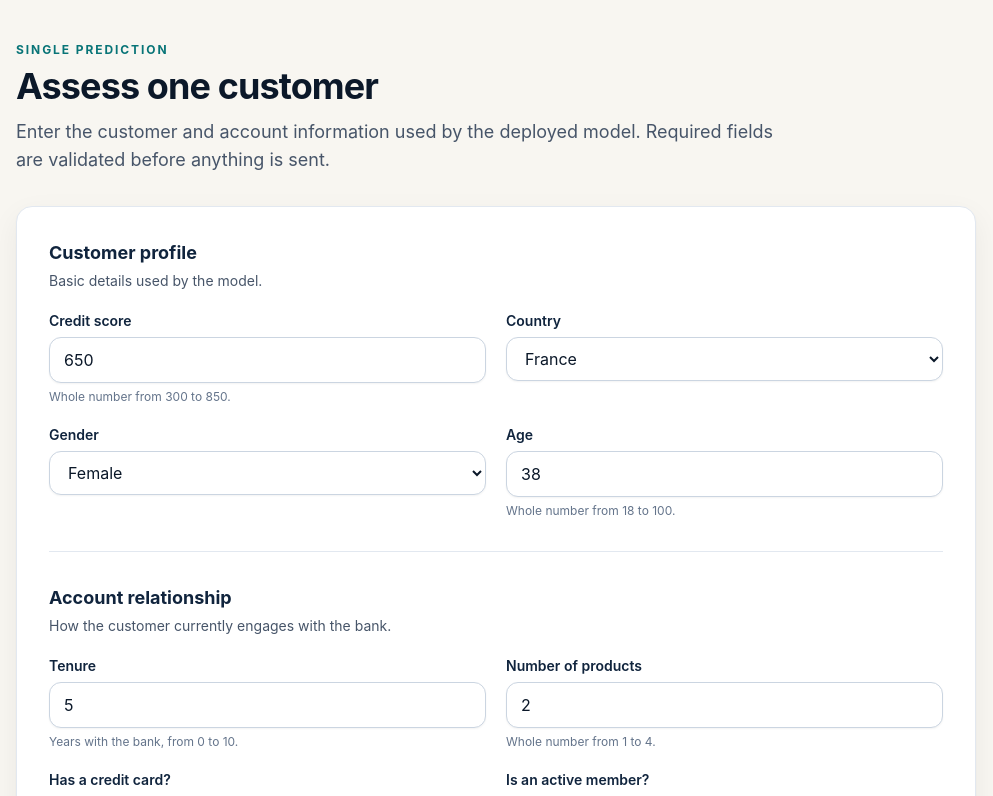
Test case: single prediction page › shows field validation before sending
The width and height of the screenshot is (993, 796).
Replace the text in the number field labelled "Credit score" with "200" at x=268, y=360, box [49,337,486,383]
(page scrolled)
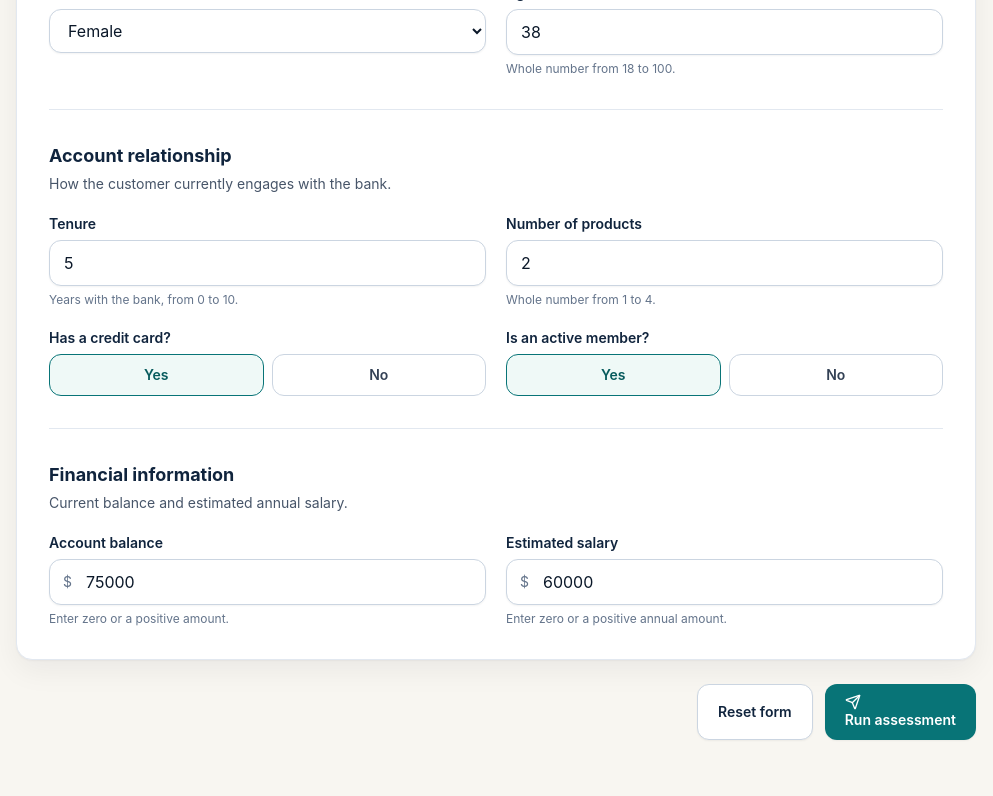
Click the button "Run assessment" at x=900, y=712, box [825,684,976,740]
(page scrolled)
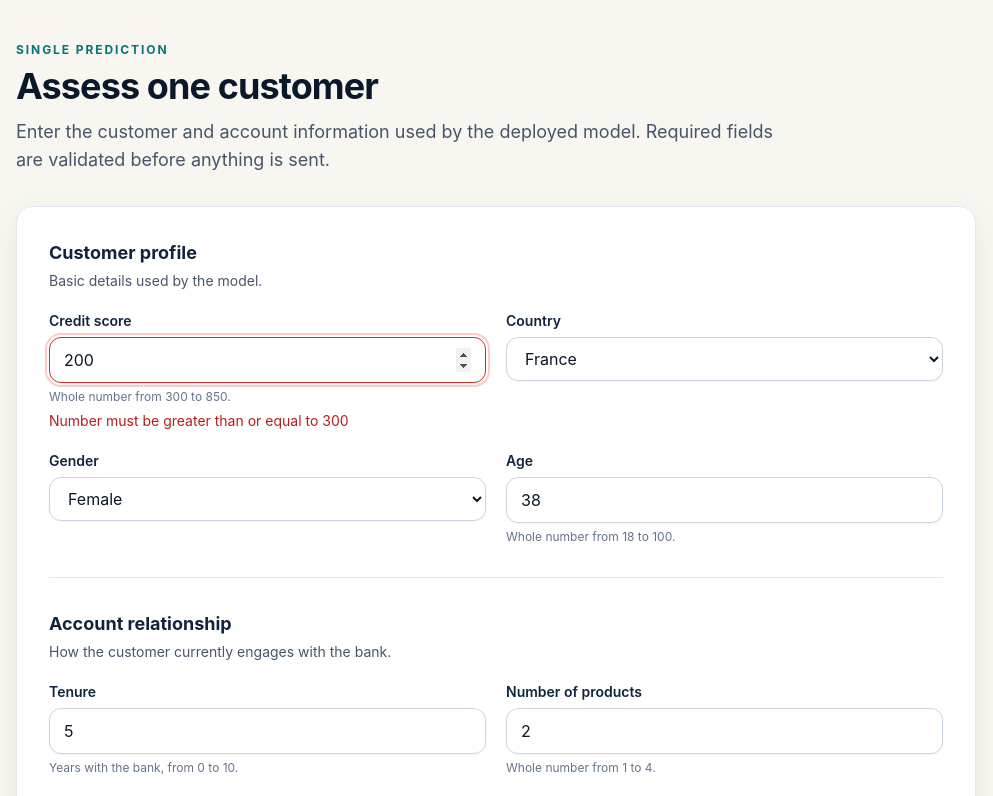
Result: the text "Number must be greater than or equal to 300" is shown at [49,412,349,429]
